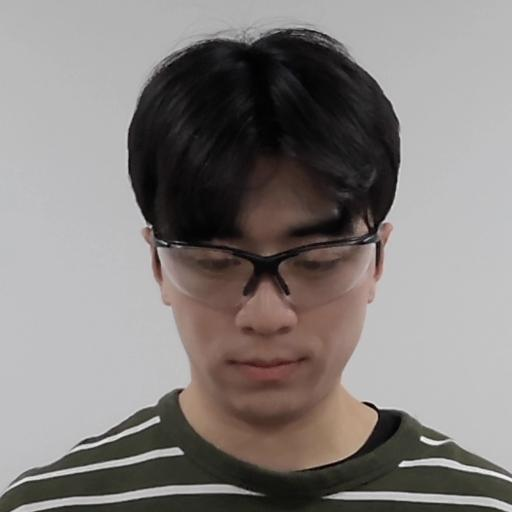glasses: (125, 32, 409, 410)
